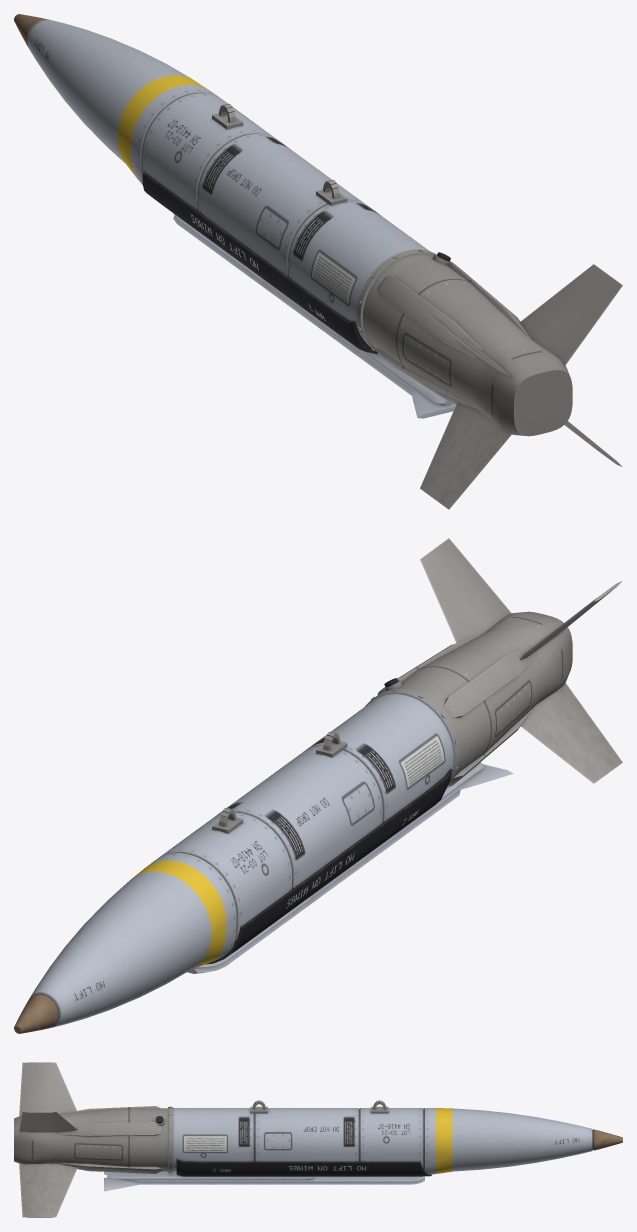
File: gbu39.glb
3 views of the same model, one above another, from view 1: azimuth 30°, elevation 25°; view 2: azimuth 150°, elevation 25°; view 3: azimuth 270°, elevation 25° (orthographic). The views are drawn at different scales.
Visible parts, largest first — view 1: SDB_body, SDB_fins, SDB_fixed, SDB_pack, wing1, wing2; view 2: SDB_body, SDB_fins, SDB_fixed, SDB_pack, wing2, wing1; view 3: SDB_body, SDB_fins, SDB_pack, SDB_fixed, wing2, wing1, wing1s.
Boxes of the visible parts, box(x1,y1,x2,y2) form: SDB_body: box(14, 14, 572, 436); SDB_fins: box(420, 264, 622, 509); SDB_fixed: box(212, 103, 531, 409); SDB_pack: box(142, 172, 377, 354); wing1: box(173, 213, 455, 418); wing2: box(173, 215, 411, 395); SDB_body: box(14, 611, 572, 1033); SDB_fins: box(420, 538, 622, 783); SDB_fixed: box(212, 634, 536, 833); SDB_pack: box(206, 769, 452, 964); wing2: box(187, 790, 460, 973); wing1: box(194, 764, 513, 968); SDB_body: box(14, 1107, 622, 1174); SDB_fins: box(19, 1062, 77, 1217); SDB_pack: box(176, 1159, 431, 1176); SDB_fixed: box(56, 1100, 388, 1173); wing2: box(104, 1177, 424, 1191); wing1: box(104, 1171, 424, 1181); wing1s: box(107, 1173, 313, 1178).
Size of the model in its own units: 0.347 by 0.347 by 1.8.
4 materials, 4 textured.
